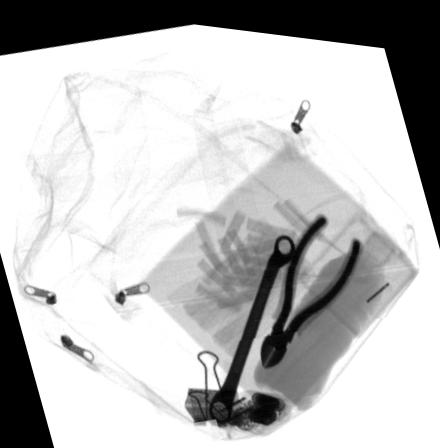Pliers: (257, 203, 362, 360)
Wrench: (207, 227, 297, 416)
